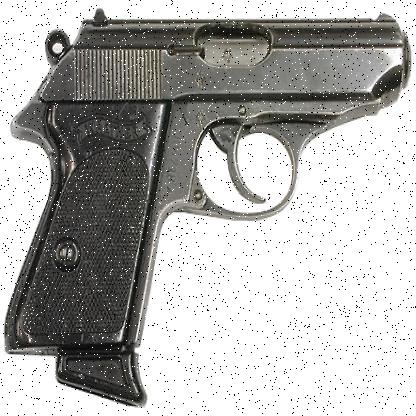pistol: (4, 13, 412, 407)
